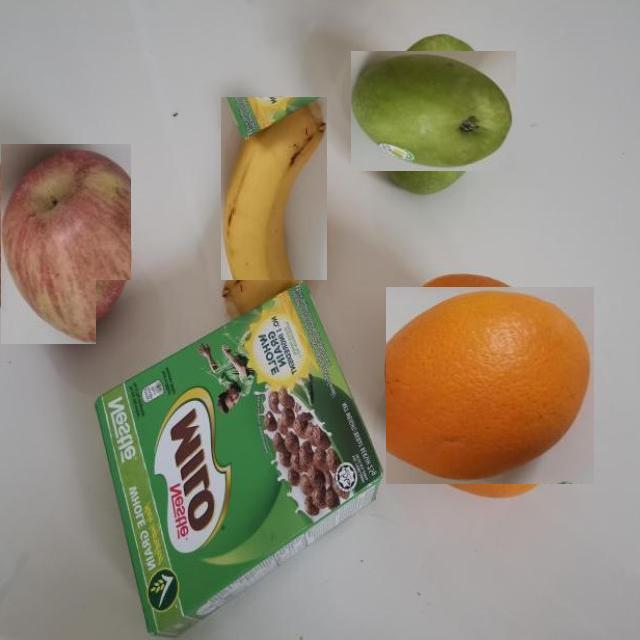Apple: (0, 143, 131, 344), (351, 52, 516, 171)
Banana: (220, 97, 327, 323)
Cerealbox: (96, 280, 386, 639)
Orange: (363, 287, 594, 484)
